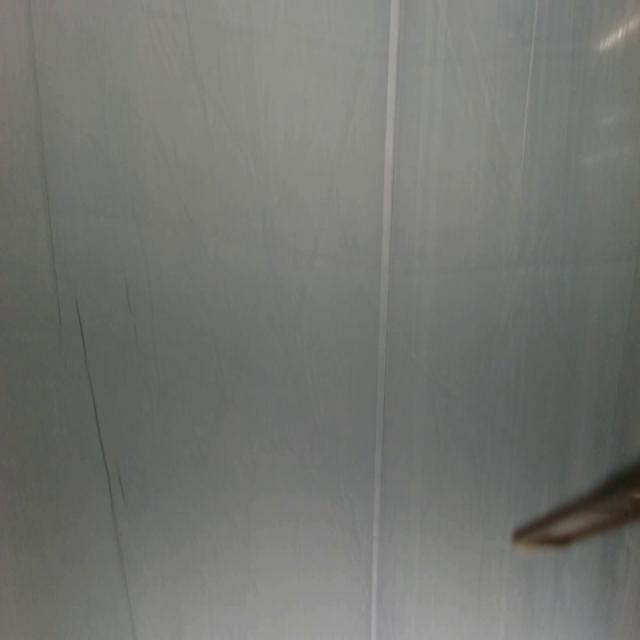crease: (77, 299, 138, 640), (370, 0, 400, 636), (29, 0, 62, 332), (520, 0, 539, 169)
